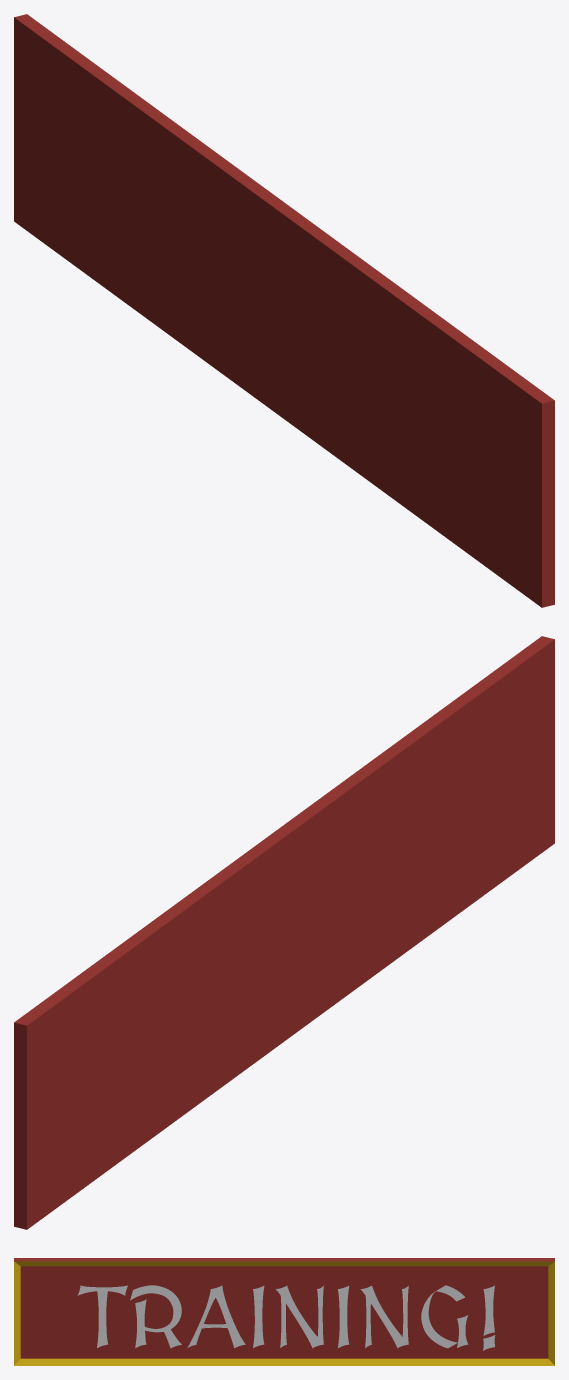
Rendered from TRAINING_SIGN.fbx.
3 renders of one model, top to bottom at view 1: azimuth 30°, elevation 25°; view 2: azimuth 150°, elevation 25°; view 3: azimuth 270°, elevation 25°, orthographic. The views are drawn at different scales.
Visible parts, largest first — view 1: Cube; view 2: Cube; view 3: Cube, Text.
Boxes of the visible parts, x1,y1,x2,y2 form: Cube: (14,14,554,607); Cube: (14,636,554,1229); Cube: (14,1258,554,1365); Text: (77,1285,495,1350).
Size of the model in its own units: 28.35 by 200 by 937.
